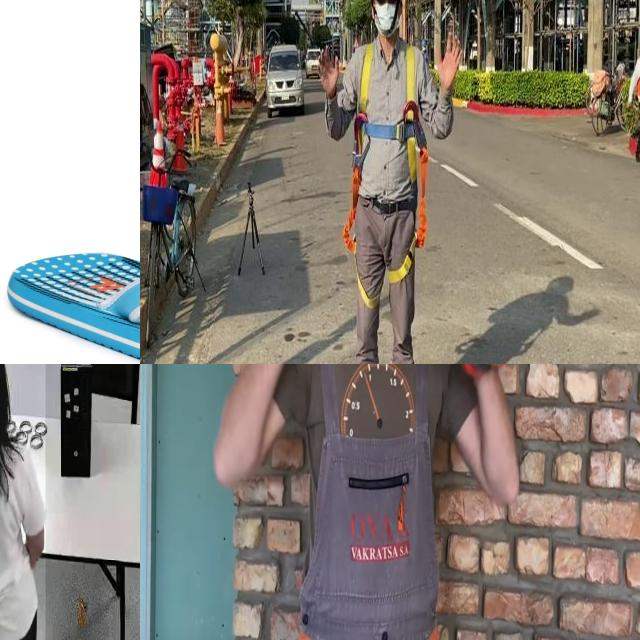Harness: (343, 44, 429, 284), (377, 196, 417, 214)
Sandals: (4, 248, 140, 364)
person: (0, 364, 46, 640)
